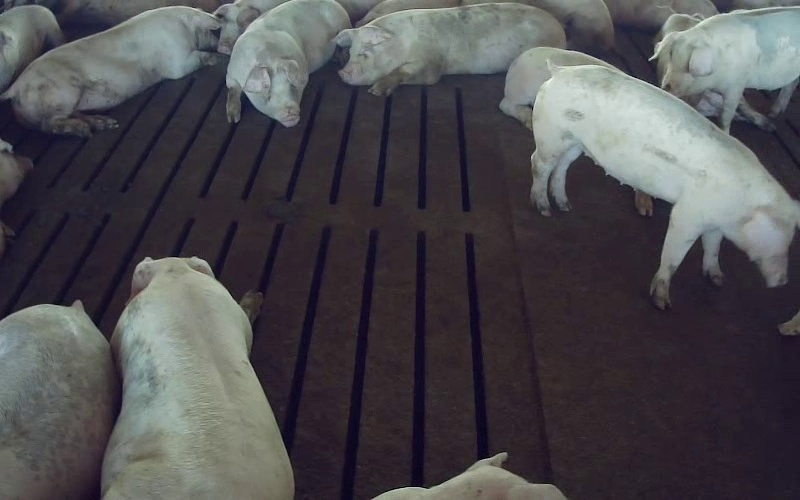pig: (531, 56, 799, 307), (102, 257, 293, 499), (0, 6, 219, 136), (0, 301, 118, 499), (335, 3, 565, 95), (653, 6, 799, 132)
